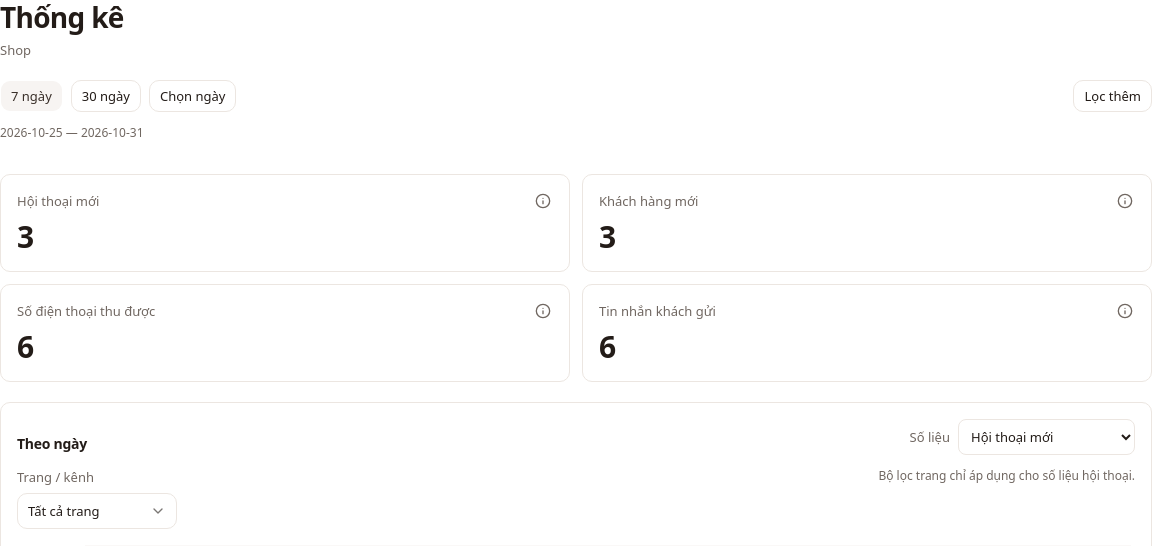
StatisticsPage › opens the rows behind a number with the same filters and data as the card
What coordinates should you click on to do the following:
click the button named "Chi tiết: Khách hàng mới"
I would click on:
 (608, 236)
Its box is [599,211,1135,255].
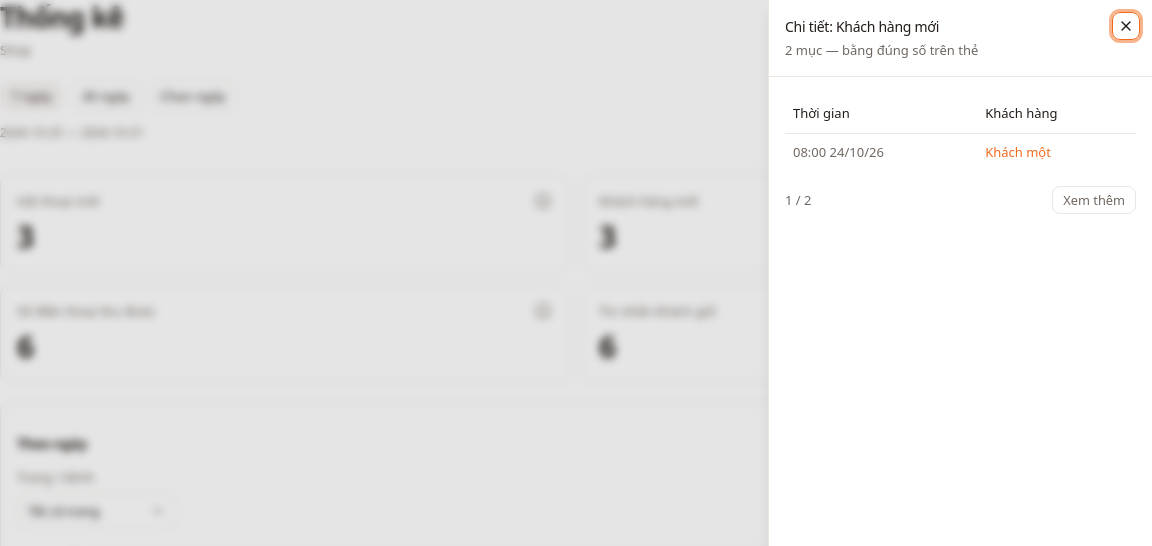
Expected: the link "Khách một" is shown, [985,143,1051,161]
Expected: the text "2 mục — bằng đúng số trên thẻ" is shown, [785,41,978,59]
What coordinates should you click on to do the following:
click the button "Xem thêm"
I would click on:
 (1094, 200)
Its box is [1052,186,1136,214].
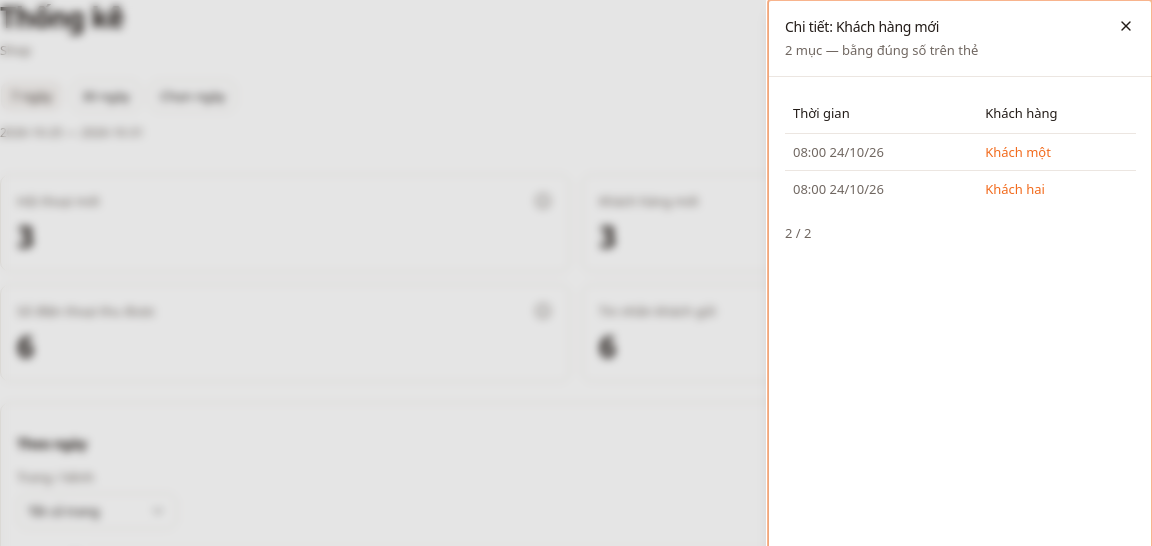
Expected: the link "Khách hai" is shown, [985,180,1045,198]
